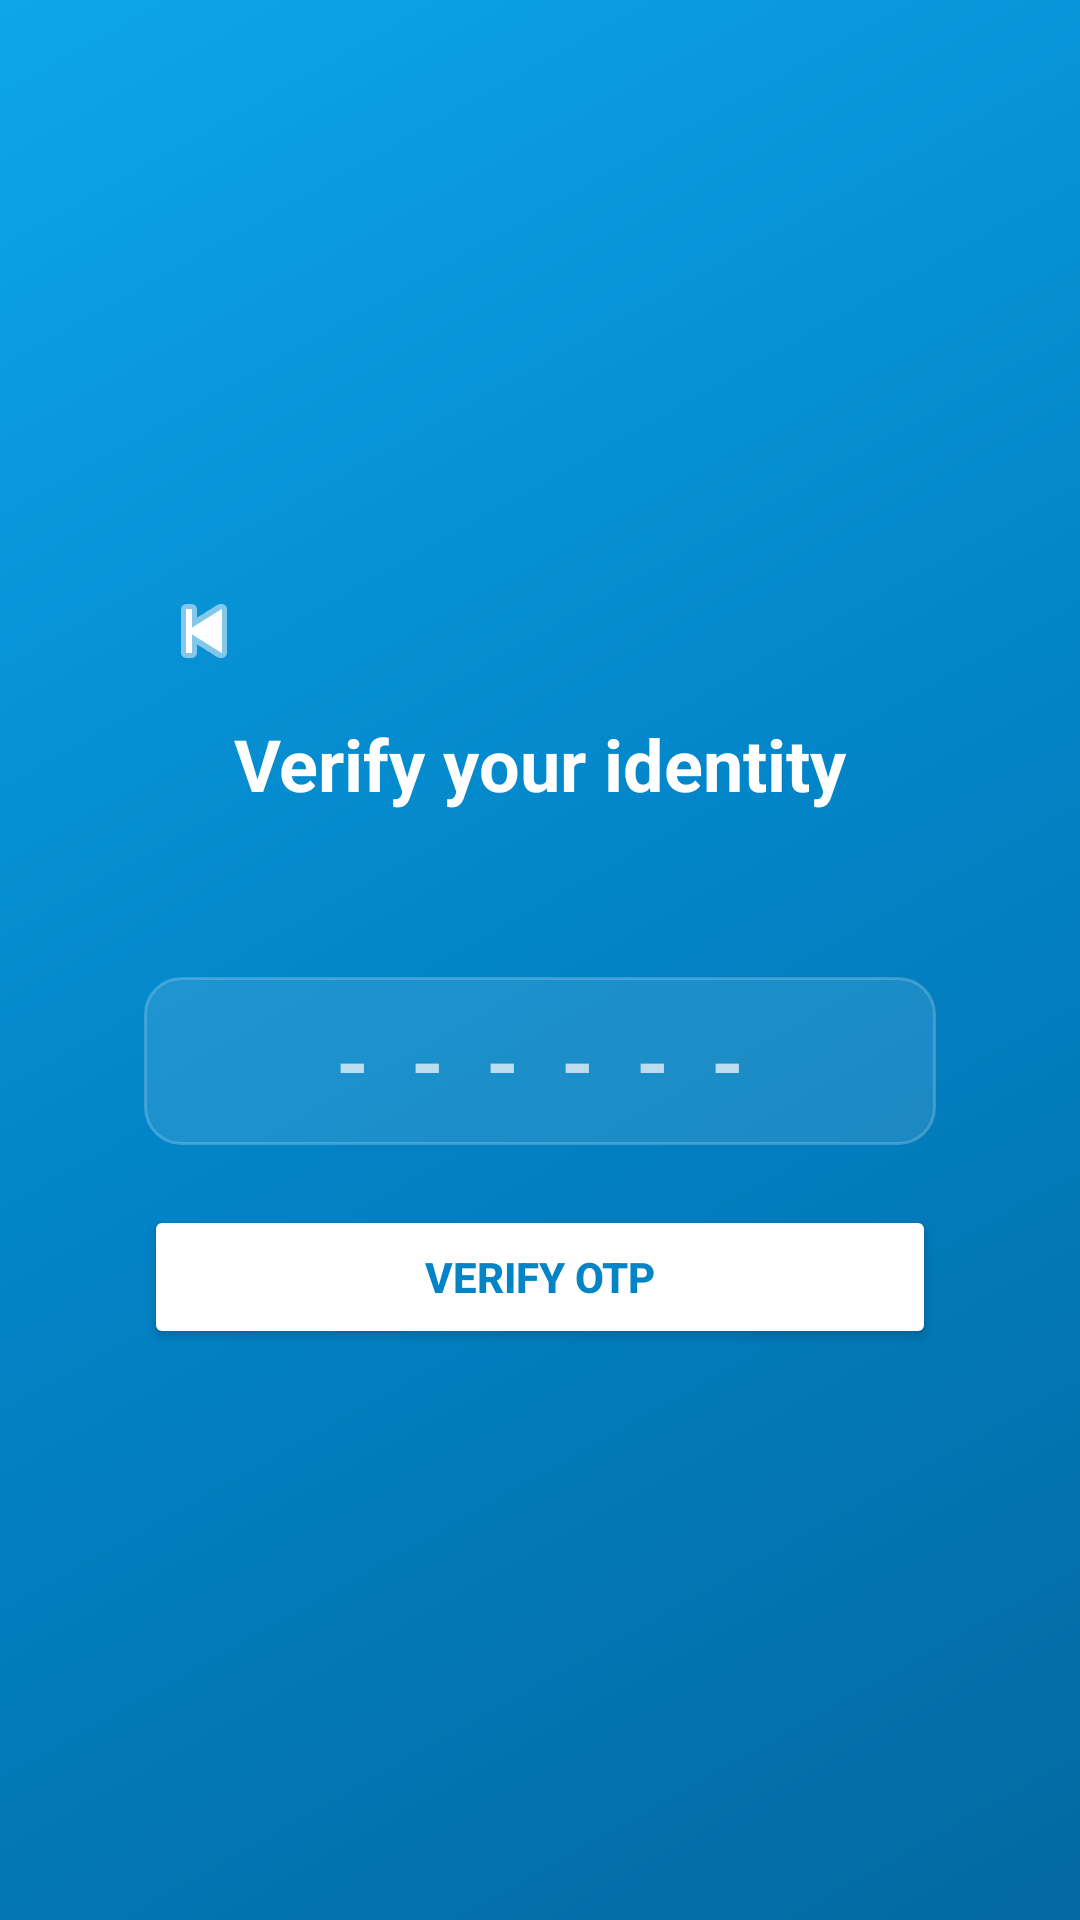

Named icons in this screenshot (1080 x 1920) and their centers, (x,y):
Back: (204,631)
